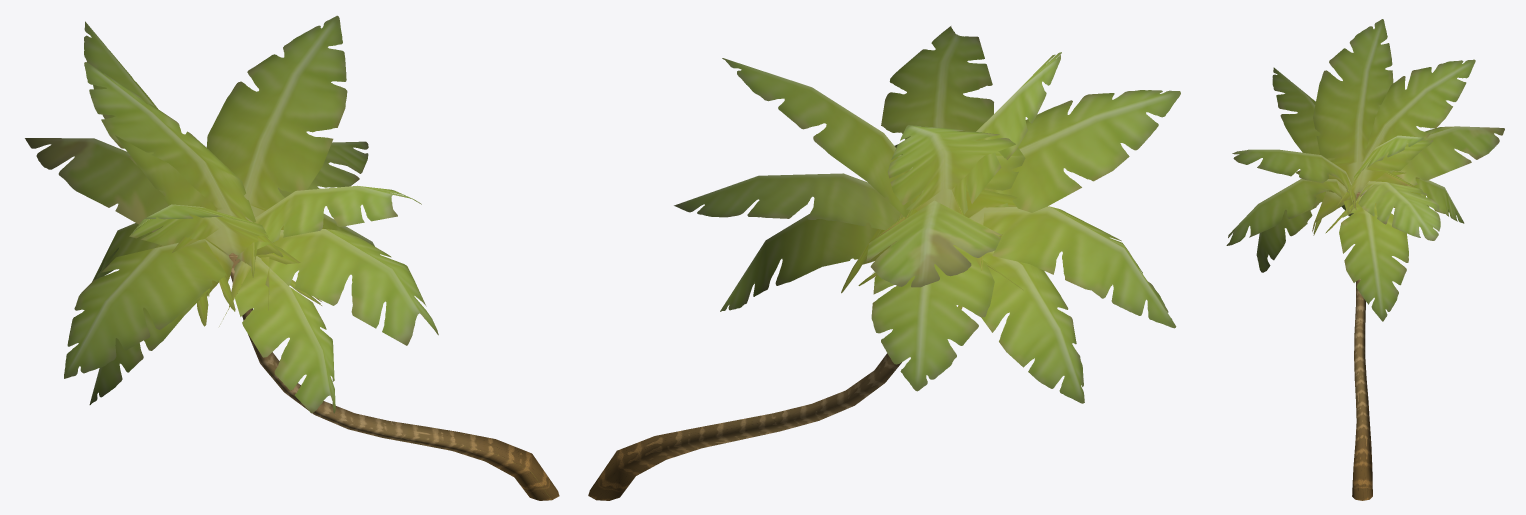
File: coconut palm 01_lod4.obj
3 views of the same model, side by side, from view 1: azimuth 30°, elevation 25°; view 2: azimuth 150°, elevation 25°; view 3: azimuth 270°, elevation 25° (orthographic). The views are drawn at different scales.
Parts seen in each view (by area): view 1: tree; view 2: tree; view 3: tree.
Part boxes in pixels (left/top/right/bottom): tree: left=25, top=15, right=559, bottom=500; tree: left=588, top=26, right=1180, bottom=500; tree: left=1226, top=19, right=1504, bottom=500.
Size of the model in its own units: 555 by 543 by 422.
